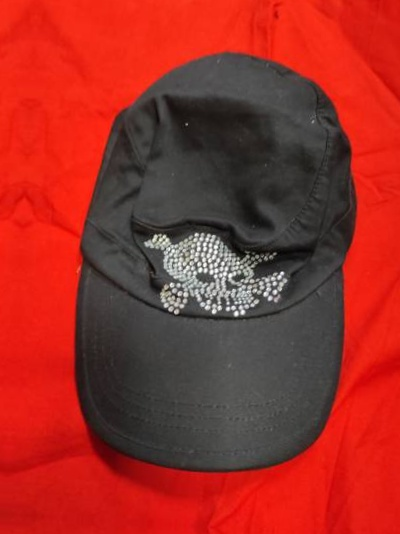Hat: (31, 4, 390, 494), (0, 0, 12, 470)
